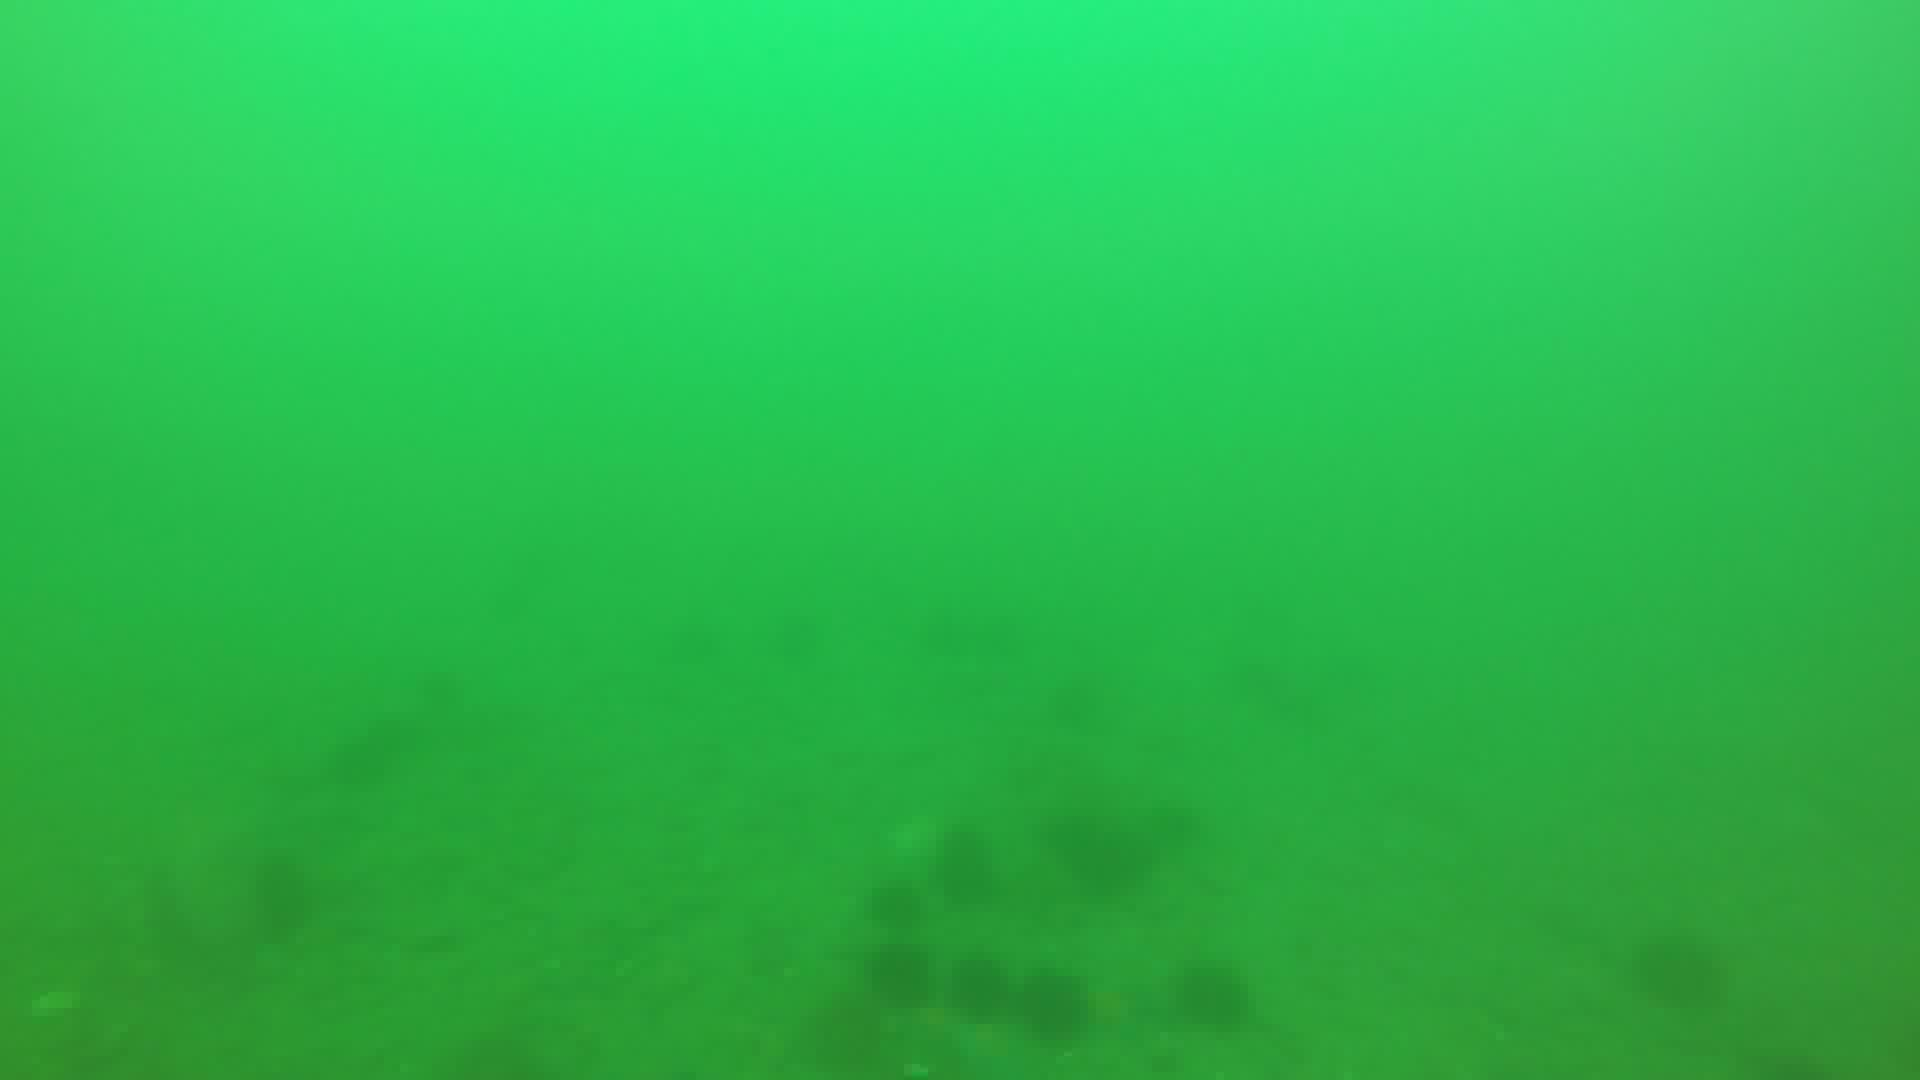echinus: (1062, 812, 1149, 891), (1015, 969, 1101, 1044), (1638, 934, 1722, 1000), (869, 942, 934, 1010), (947, 957, 1006, 1021), (1183, 968, 1246, 1026), (939, 827, 994, 887), (866, 882, 928, 934)
